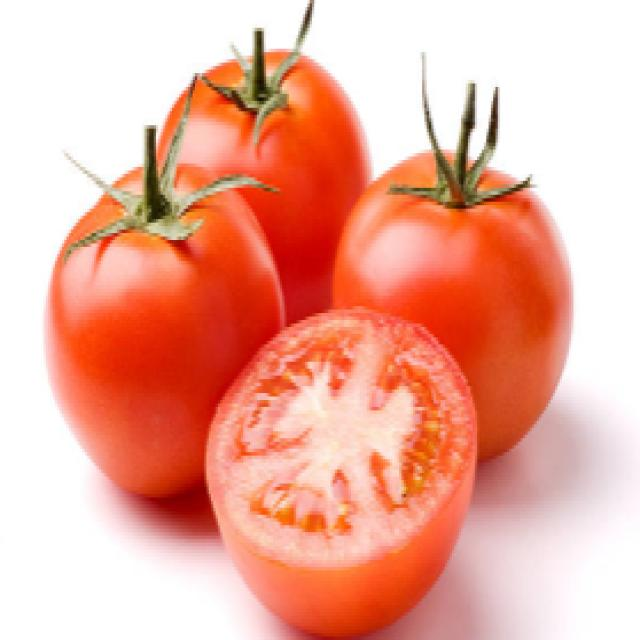Tomato: (322, 98, 570, 480), (212, 292, 486, 631), (54, 121, 283, 494), (170, 30, 371, 326)
